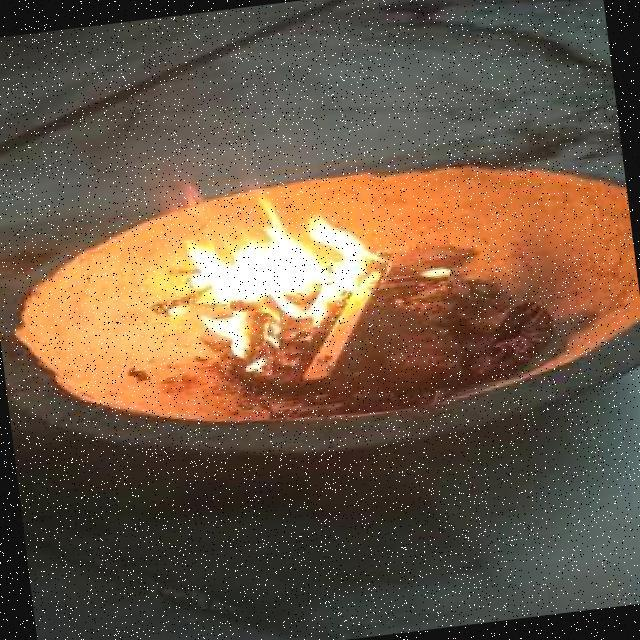Fire: (144, 138, 436, 379)
